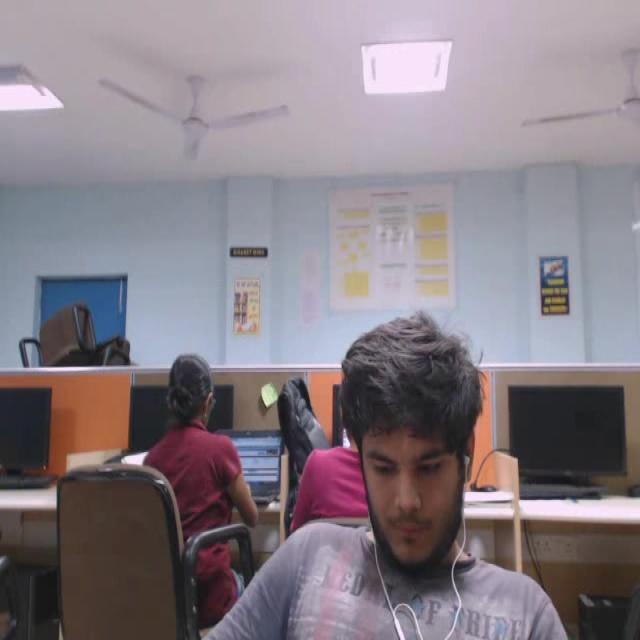Bored: (321, 298, 519, 606)
